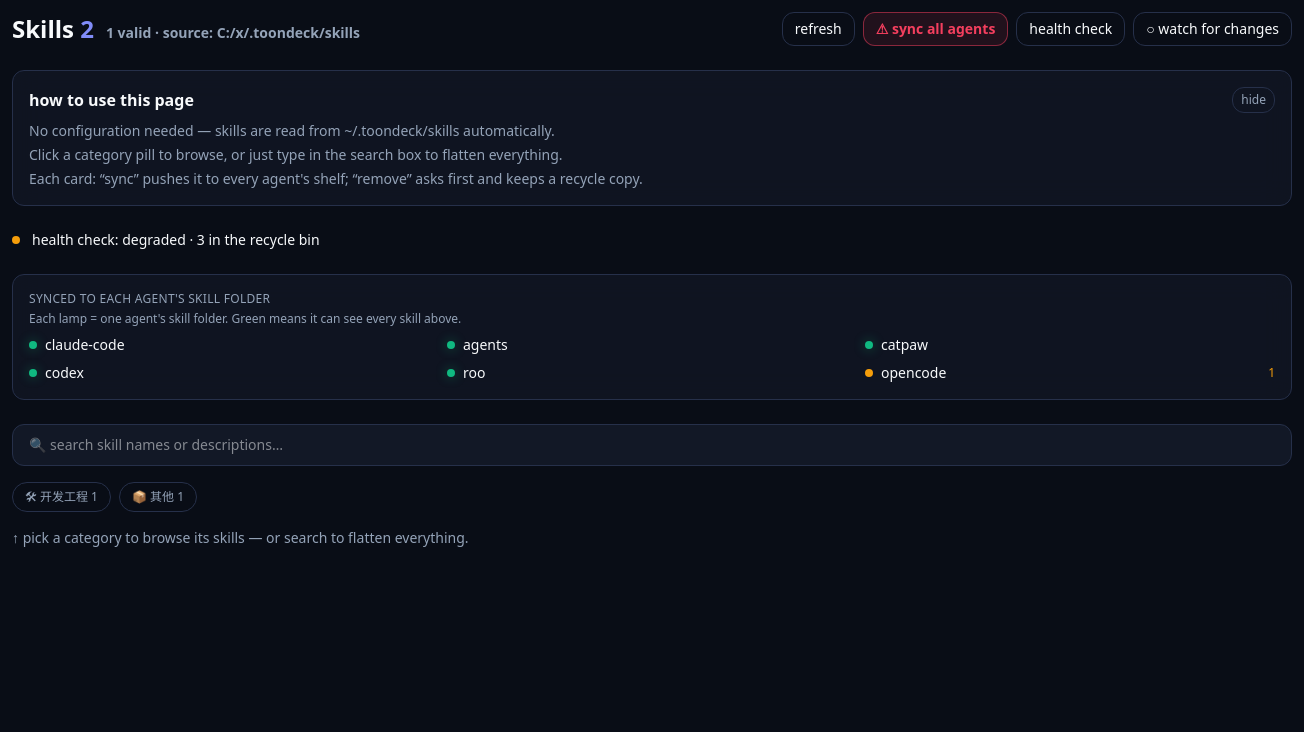
Test case: SkillsPanel › watcher toggle reflects running state
Click the button "○ watch for changes": {"x": 1213, "y": 29} [1133,12,1292,46]
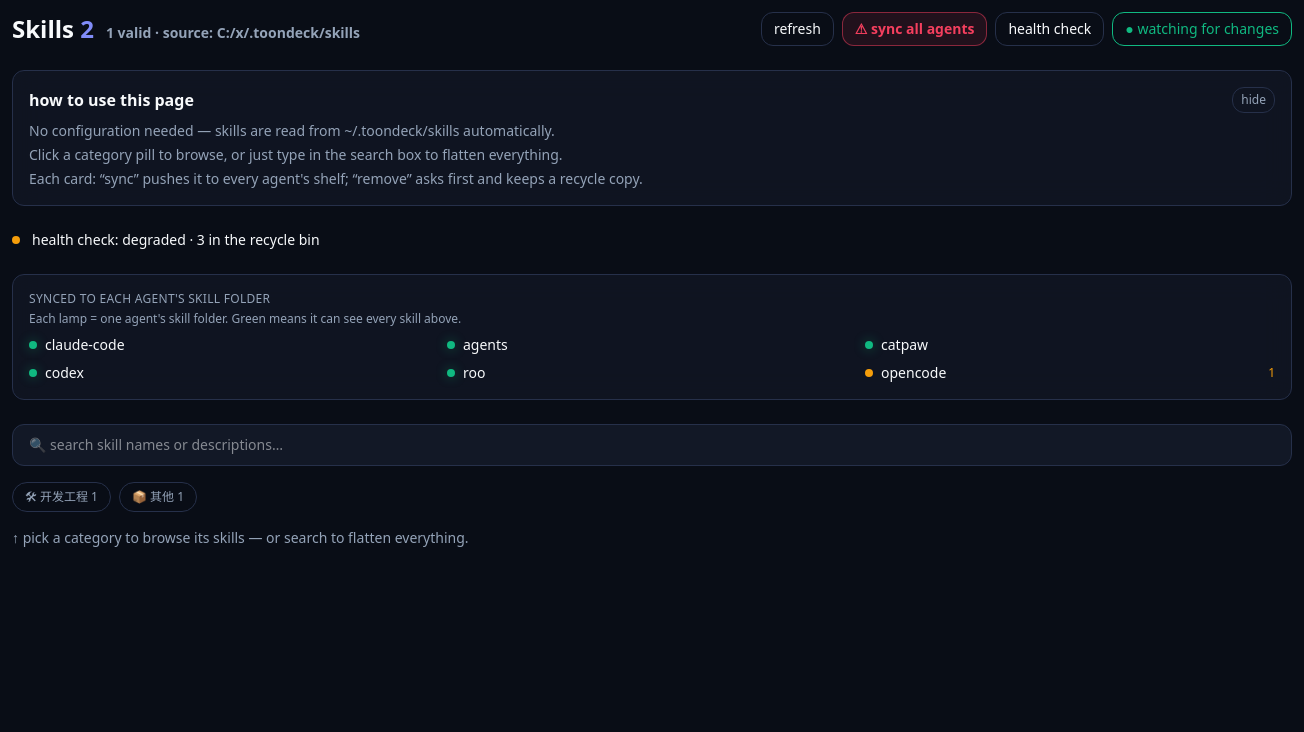
Check: the button "● watching for changes" is shown, box [1112,12,1292,46]
